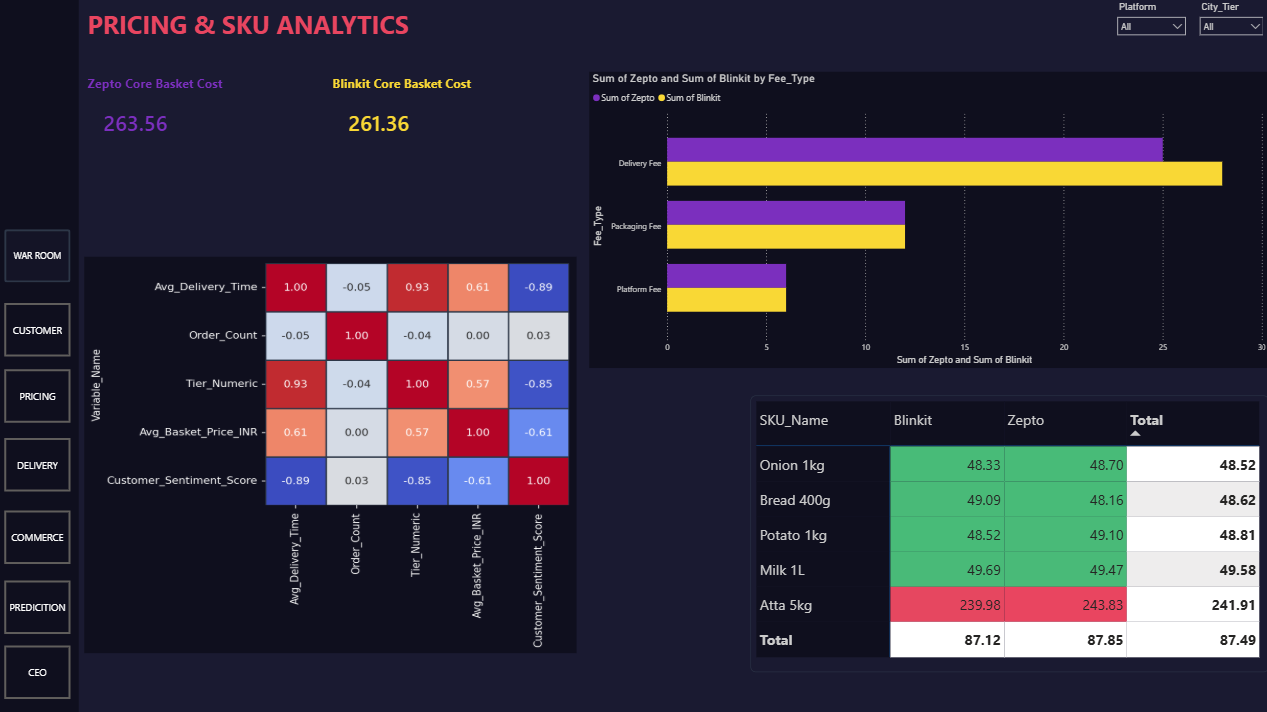

The dashboard page shown, as its layout file describes it:
{"tool":"powerbi","page":{"name":"03 Pricing & SKU Analytics","canvas":[1920,1080],"ordinal":2},"visuals":[{"type":"shape","box":[1.2,0,120,1080],"z":0},{"type":"slicer","fields":{"Values":["3_delivery_ops_cleaned.City_Tier"]},"box":[1803.3,0,116.7,66.7],"z":1000},{"type":"slicer","fields":{"Values":["3_delivery_ops_cleaned.Platform"]},"box":[1680,0,123.3,66.7],"z":2000},{"type":"textbox","box":[129.4,9.8,700,70.6],"z":3000},{"type":"pivotTable","fields":{"Rows":["2_product_prices_cleaned.SKU_Name"],"Columns":["2_product_prices_cleaned.Platform"],"Values":["Avg(2_product_prices_cleaned.Price_INR)"]},"box":[1135.3,600,784.3,417.6],"z":5000},{"type":"clusteredBarChart","fields":{"Category":["Platform_Fees.Fee_Type"],"Y":["Sum(Platform_Fees.Zepto)","Sum(Platform_Fees.Blinkit)"]},"box":[892.2,111.8,1027.5,447.1],"z":6000},{"type":"image","box":[129.4,390.2,743.1,598],"z":7000},{"type":"cardVisual","fields":{"Data":["Sum(phase4_ceo_master_scorecard.Avg_SKU_Price)"]},"box":[129.4,111.8,351,151],"z":8000},{"type":"cardVisual","fields":{"Data":["Sum(phase4_ceo_master_scorecard.Avg_SKU_Price)"]},"box":[500,111.8,356.9,151],"z":9000},{"type":"actionButton","box":[9.6,459.6,100,80.8],"z":10000},{"type":"actionButton","box":[9.6,559.6,100,80.8],"z":11000},{"type":"actionButton","box":[9.6,663.5,100,80.8],"z":12000},{"type":"actionButton","box":[9.6,773.1,100,80.8],"z":13000},{"type":"actionButton","box":[9.6,878.8,100,80.8],"z":14000},{"type":"actionButton","box":[9.6,976.9,100,80.8],"z":15000},{"type":"actionButton","box":[9.8,349,100,80.4],"z":16000},{"type":"textbox","box":[129.4,111.8,225.5,45.1],"z":17000},{"type":"textbox","box":[500,111.8,229.4,45.1],"z":18000}]}

Visuals, with their boxes on the page's 1920x1080 design canvas (x1, y1, x2, y2). These are canvas units, not pixel positions in the 1267x712 screenshot, which may show the page scaled, cropped or inside an application window:
shape: Rect(1, 0, 121, 1080)
slicer - 3_delivery_ops_cleaned.City_Tier: Rect(1803, 0, 1920, 67)
slicer - 3_delivery_ops_cleaned.Platform: Rect(1680, 0, 1803, 67)
textbox: Rect(129, 10, 829, 80)
pivotTable - 2_product_prices_cleaned.SKU_Name x 2_product_prices_cleaned.Platform: Rect(1135, 600, 1920, 1018)
clusteredBarChart - Platform_Fees.Fee_Type x Sum(Platform_Fees.Zepto): Rect(892, 112, 1920, 559)
image: Rect(129, 390, 872, 988)
cardVisual - Sum(phase4_ceo_master_scorecard.Avg_SKU_Price): Rect(129, 112, 480, 263)
cardVisual - Sum(phase4_ceo_master_scorecard.Avg_SKU_Price): Rect(500, 112, 857, 263)
actionButton: Rect(10, 460, 110, 540)
actionButton: Rect(10, 560, 110, 640)
actionButton: Rect(10, 664, 110, 744)
actionButton: Rect(10, 773, 110, 854)
actionButton: Rect(10, 879, 110, 960)
actionButton: Rect(10, 977, 110, 1058)
actionButton: Rect(10, 349, 110, 429)
textbox: Rect(129, 112, 355, 157)
textbox: Rect(500, 112, 729, 157)
